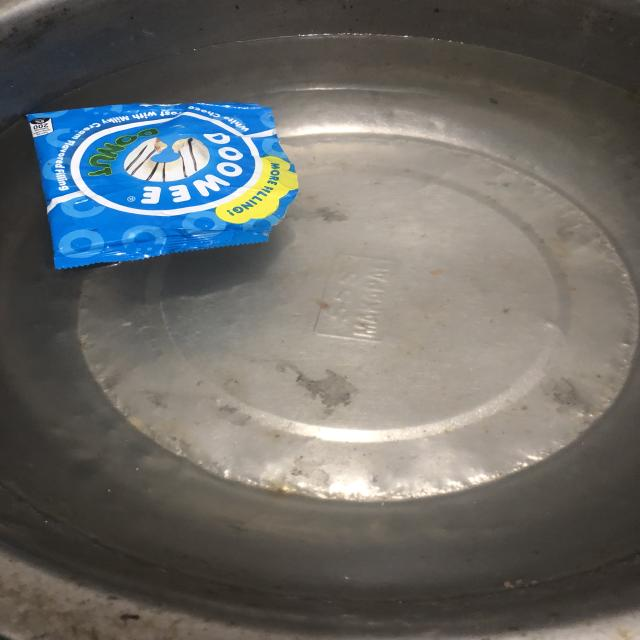Plastic Wrapper: (0, 81, 337, 290)
